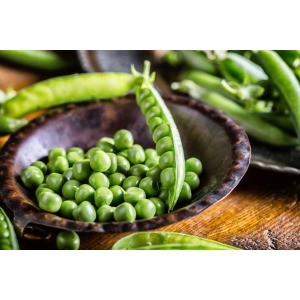green pea_brain food: (31, 136, 199, 214), (13, 62, 208, 119)
